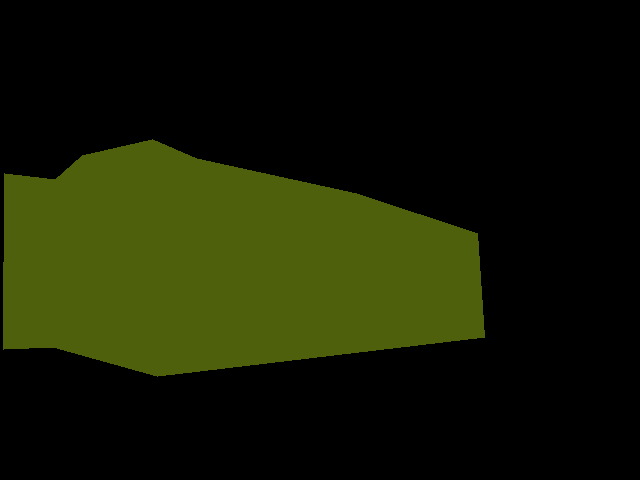Train: (3, 139, 485, 376)
